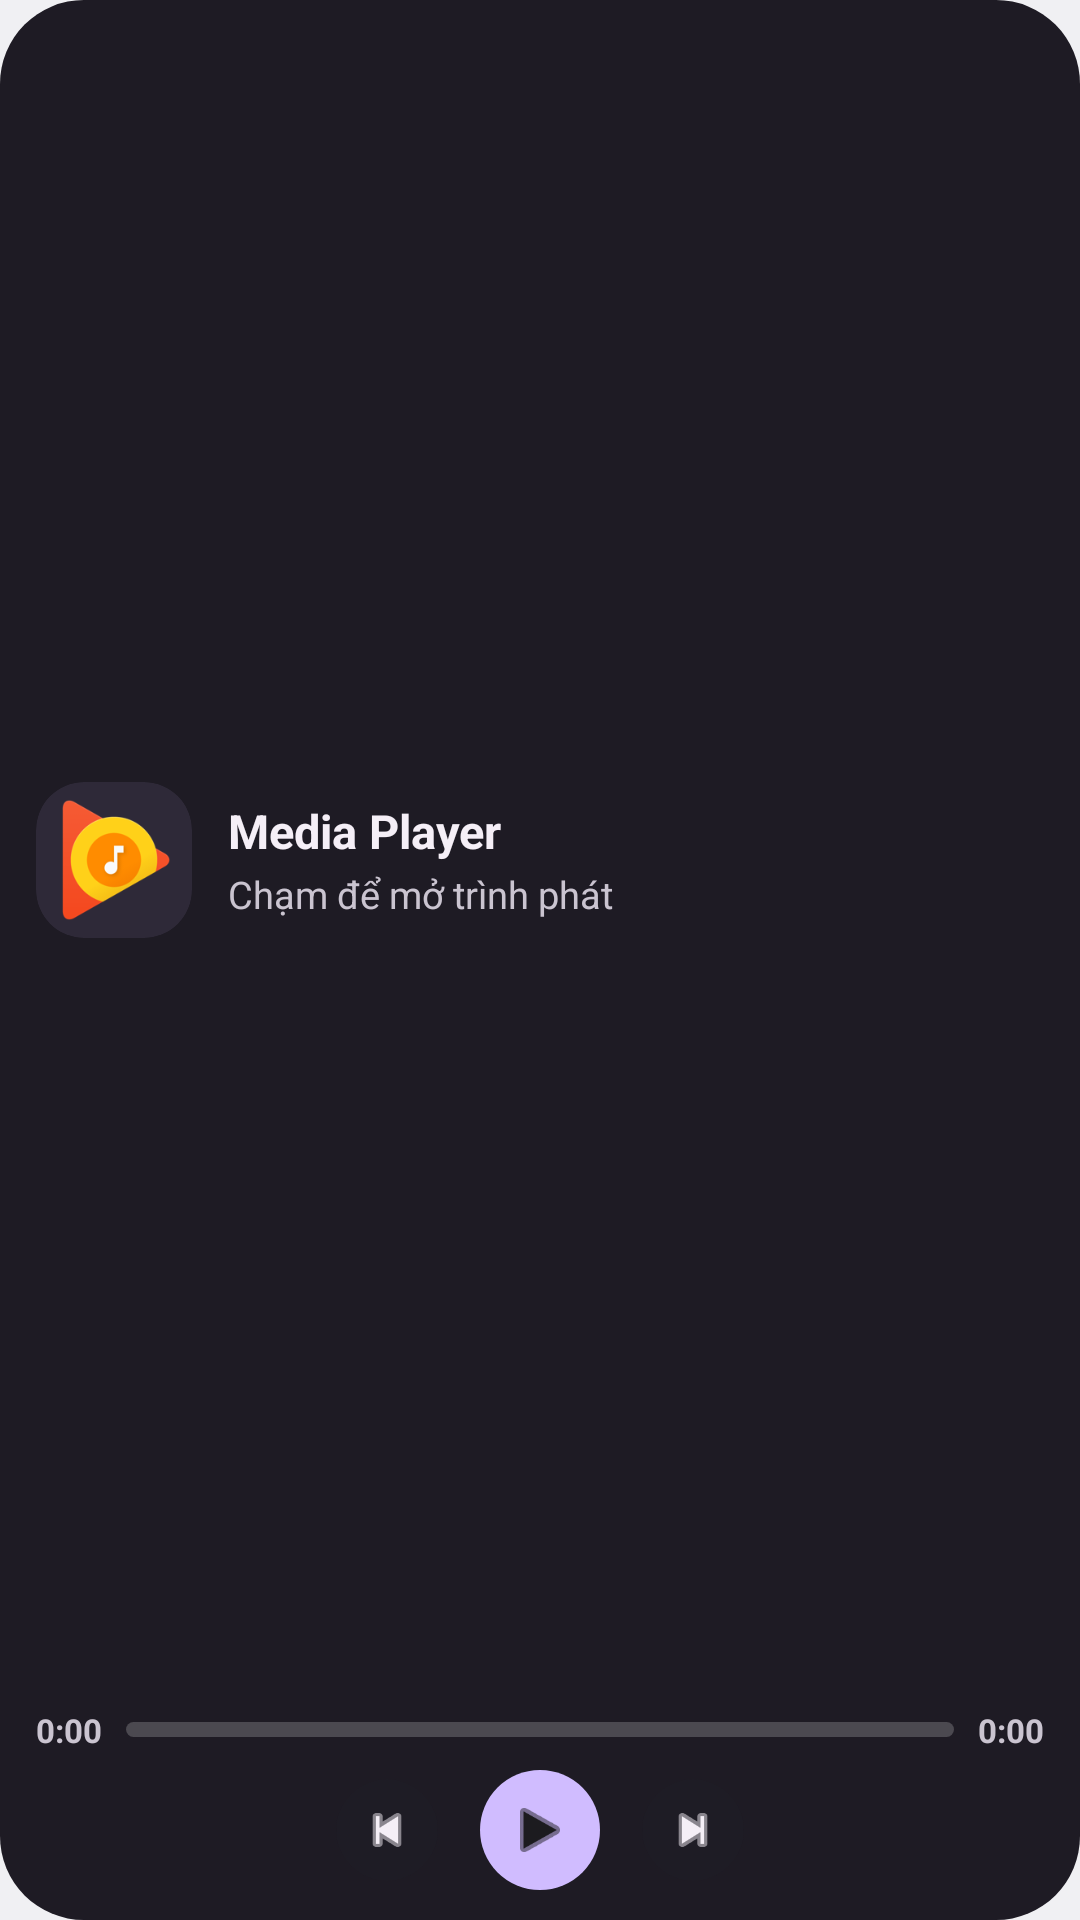

Icon bounding boxes for this 1080px x 1920px phone screenshot, format bbox=[x1, y1, x2, y2]:
Next: bbox=[678, 1813, 708, 1847]
Play or Pause: bbox=[480, 1770, 600, 1890]
Previous: bbox=[372, 1813, 402, 1847]
